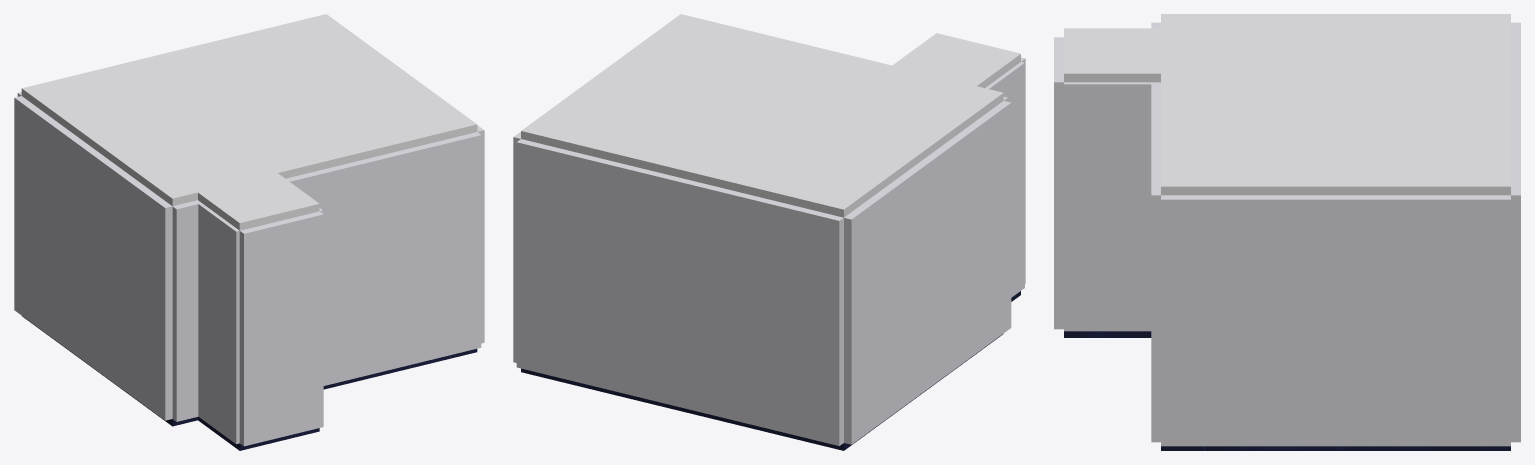
Rendered from room.glb.
3 views of the same model, side by side, from view 1: azimuth 30°, elevation 25°; view 2: azimuth 150°, elevation 25°; view 3: azimuth 270°, elevation 25° (orthographic). The views are drawn at different scales.
Parts seen in each view (by area): view 1: ceiling_main, wall_front_right, wall_left, wall_hallway_b, wall_hallway_l, wall_front_left, ceiling_hallway, floor_main, wall_right, floor_hallway; view 2: wall_rear, ceiling_main, wall_left, ceiling_hallway, wall_hallway_l, floor_main, wall_right; view 3: wall_right, ceiling_main, wall_hallway_r, ceiling_hallway, wall_rear, wall_front_right, wall_hallway_b, floor_main, floor_hallway.
Boxes of the visible parts, box(x1,y1,x2,y2) form: ceiling_main: box(21, 14, 477, 206); wall_front_right: box(286, 132, 481, 385); wall_left: box(14, 96, 172, 420); wall_hallway_b: box(239, 211, 323, 446); wall_hallway_l: box(194, 200, 239, 444); wall_front_left: box(172, 201, 201, 421); ceiling_hallway: box(198, 173, 319, 230); floor_main: box(22, 316, 477, 426); wall_right: box(477, 125, 484, 343); floor_hallway: box(198, 416, 319, 450); wall_rear: box(516, 139, 843, 445); ceiling_main: box(521, 14, 1003, 217); wall_left: box(844, 101, 1011, 444); ceiling_hallway: box(892, 33, 1020, 87); wall_hallway_l: box(985, 62, 1024, 297); floor_main: box(521, 334, 1003, 450); wall_right: box(513, 132, 520, 362); wall_right: box(1161, 195, 1510, 446); ceiling_main: box(1161, 14, 1510, 195); wall_hallway_r: box(1064, 82, 1151, 331); ceiling_hallway: box(1064, 28, 1160, 82); wall_rear: box(1511, 22, 1520, 442); wall_front_right: box(1151, 82, 1160, 442); wall_hallway_b: box(1054, 37, 1063, 329); floor_main: box(1161, 446, 1510, 450); floor_hallway: box(1064, 331, 1151, 337).
Bounding box in the file's own units: 4.4 × 3 × 4.8.
Materials: 43 (7 with a texture image).
